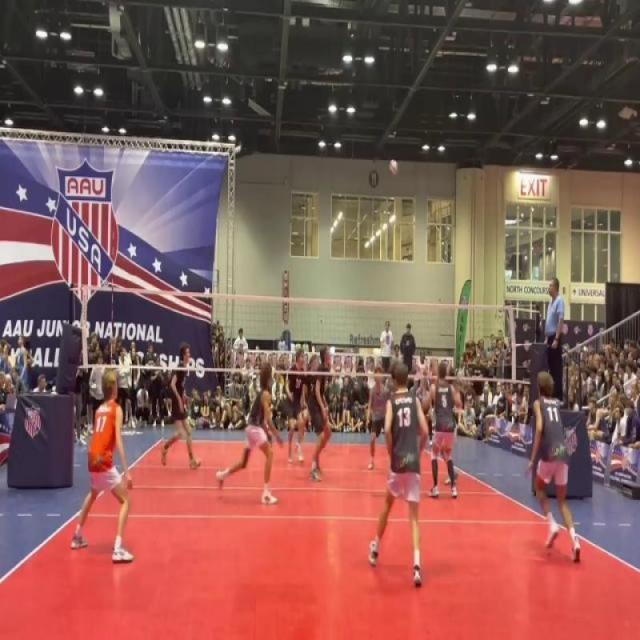volleyball: (388, 156, 400, 178)
